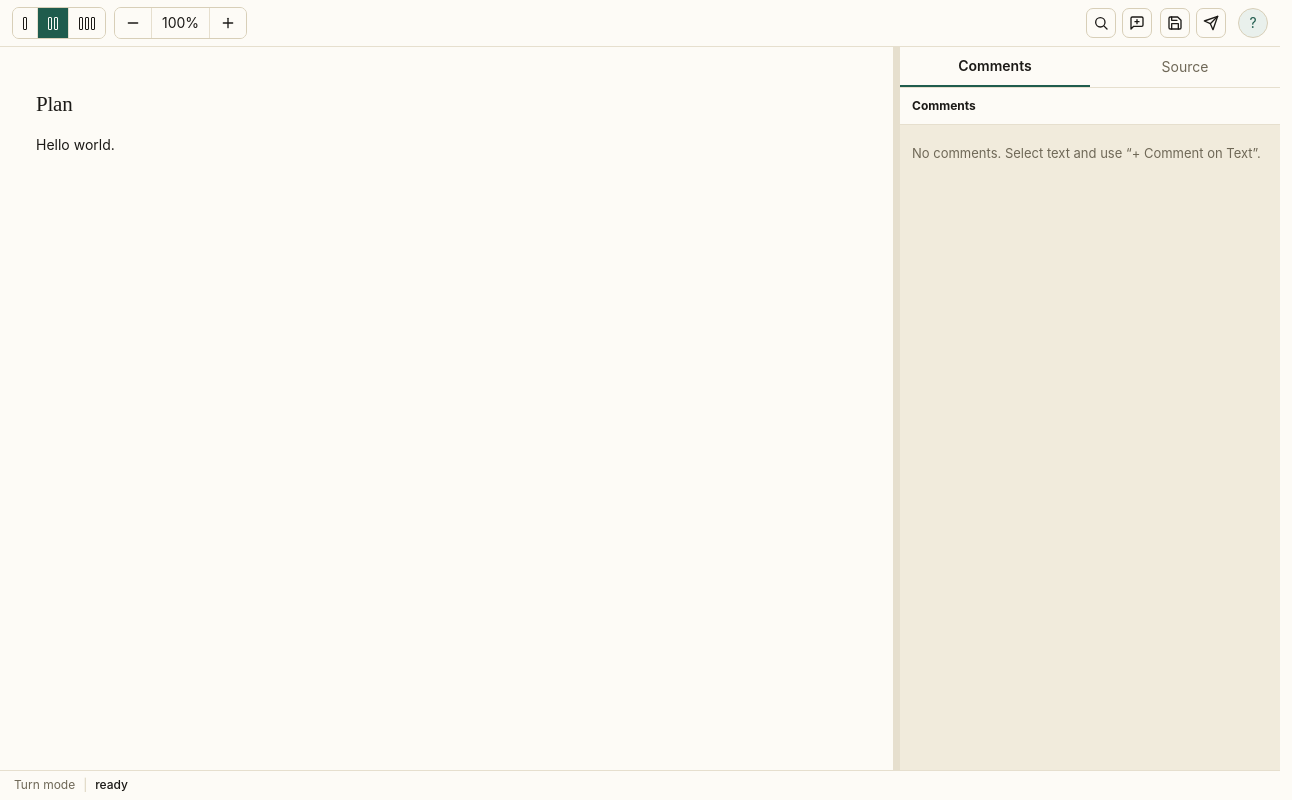
it: span comment creation (regression) › adds a span comment from a preview selection via the toolbar composer
Click the button named "comment on text".
click(1137, 23)  # box [1122, 8, 1152, 38]
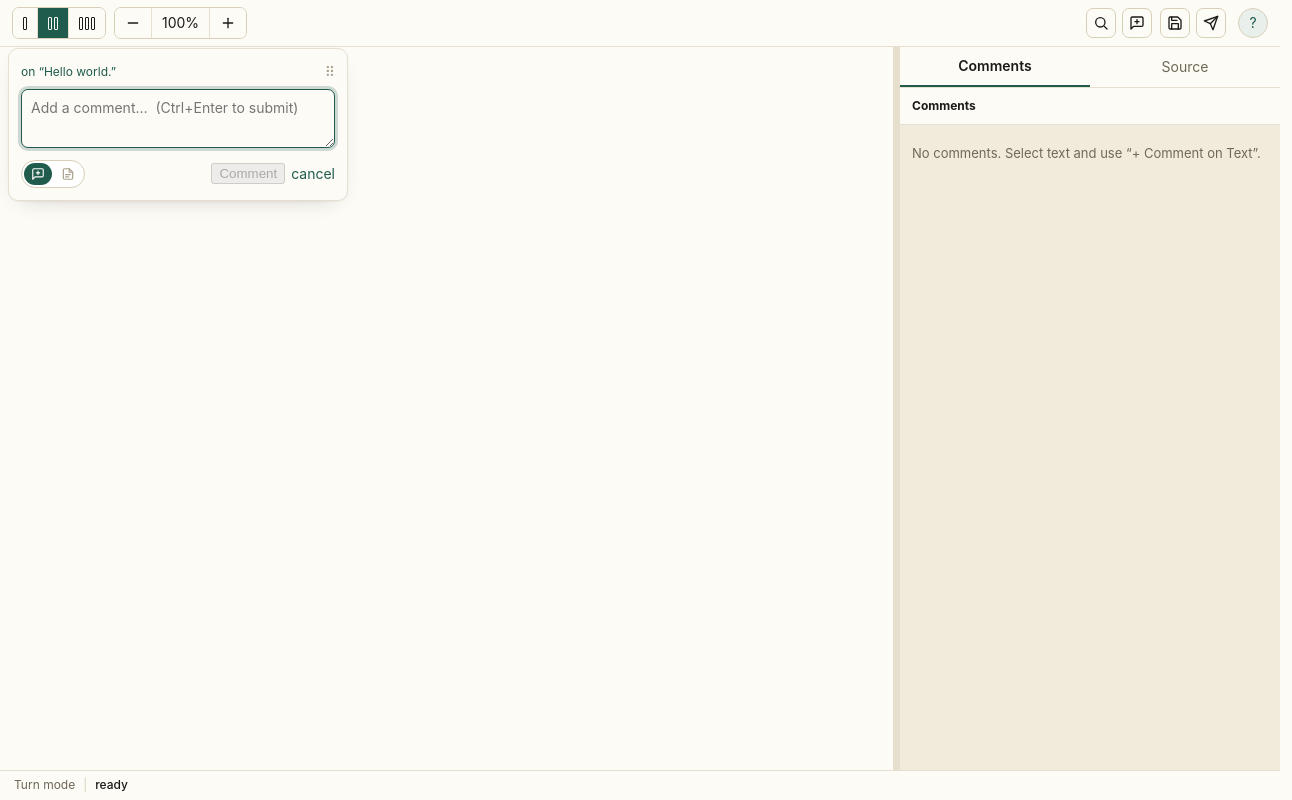
Type "On the greeting." into the dropdown with placeholder "Add a comment… (Ctrl+Enter to submit)".
click(178, 118); type("On the greeting.")  # box [21, 89, 335, 148]
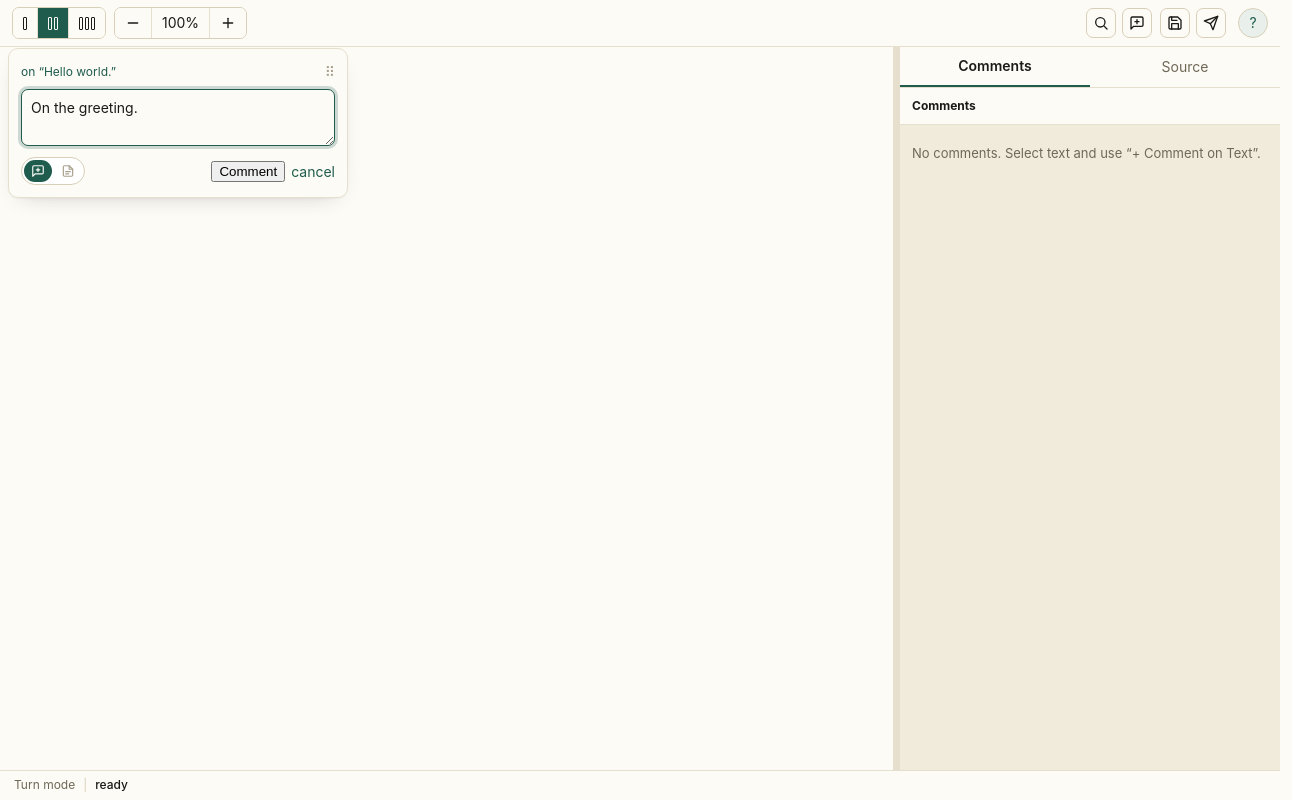
Click the button "Comment".
click(248, 171)  # box [211, 161, 285, 182]
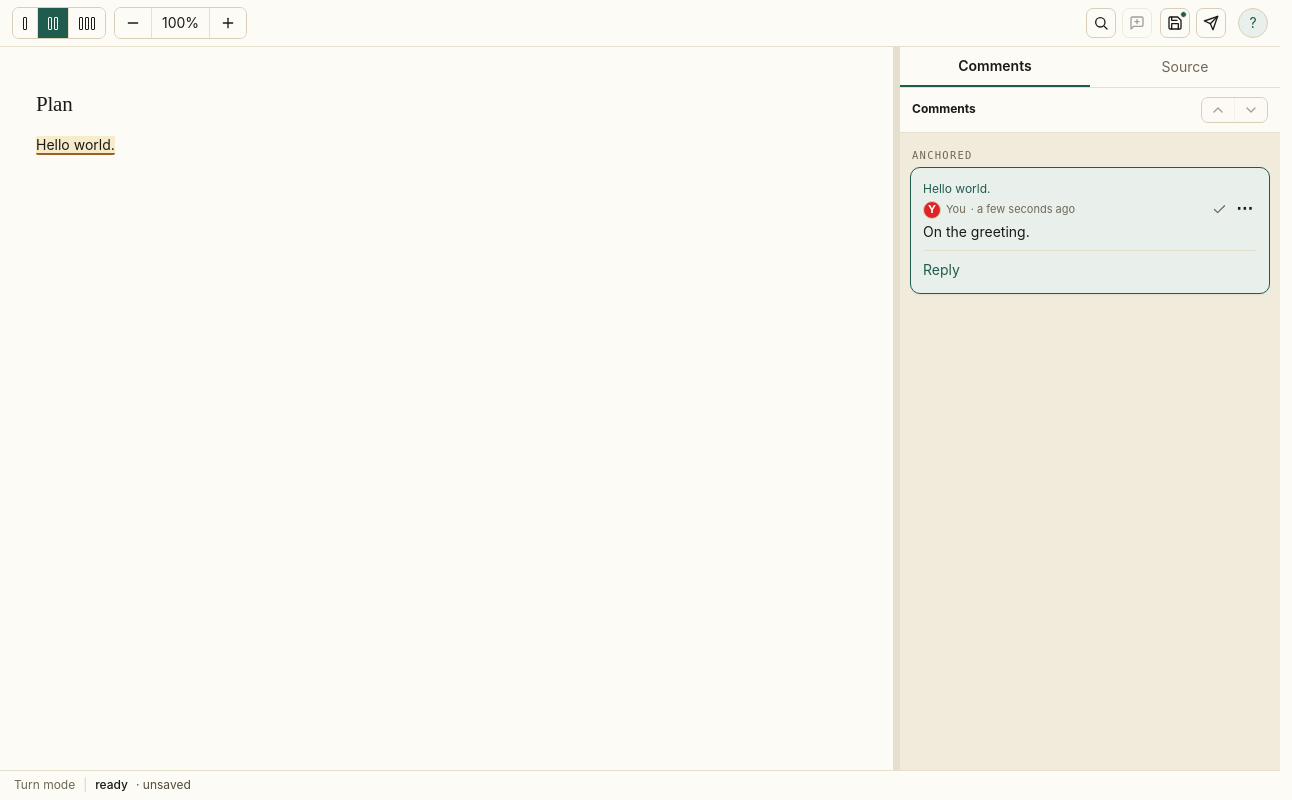
Now the text "On the greeting." is shown, box [923, 222, 1030, 240]
